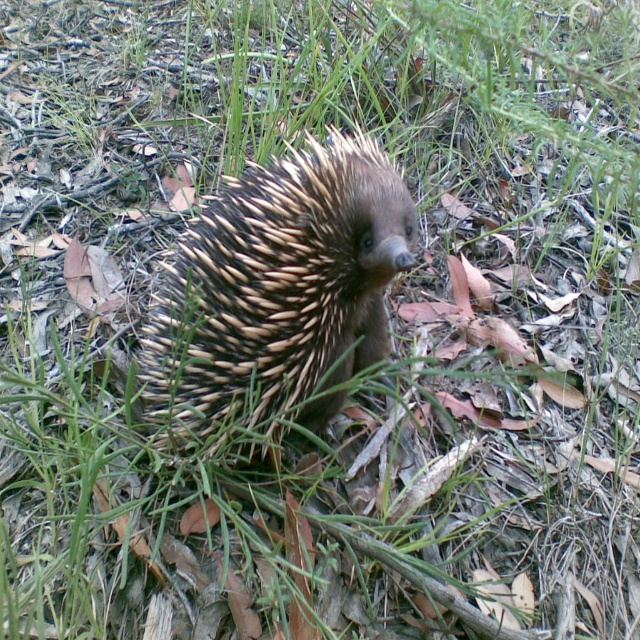Hedgehog: (123, 117, 422, 476)
